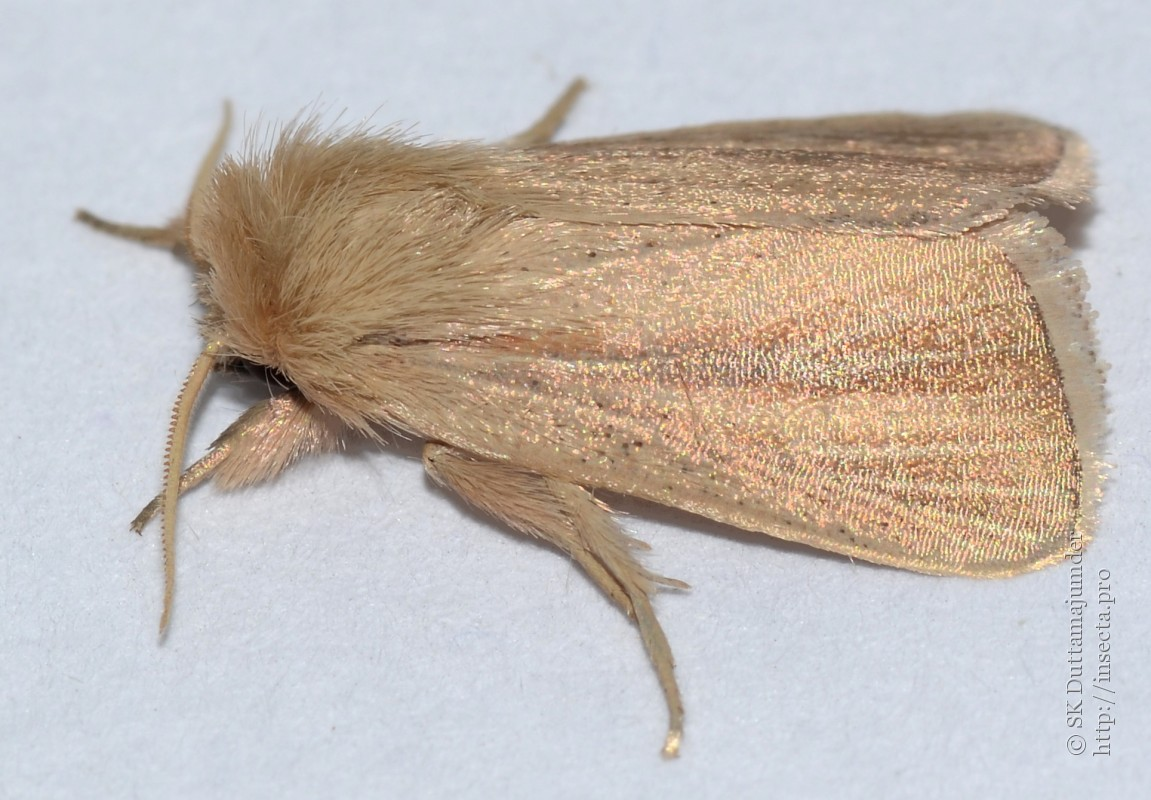Noctuidae: (72, 75, 1108, 752)
